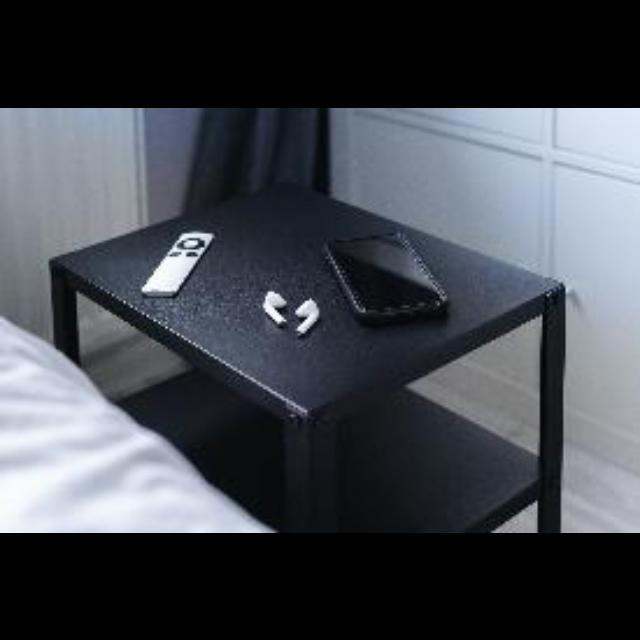PhoneUse: (322, 230, 446, 324)
